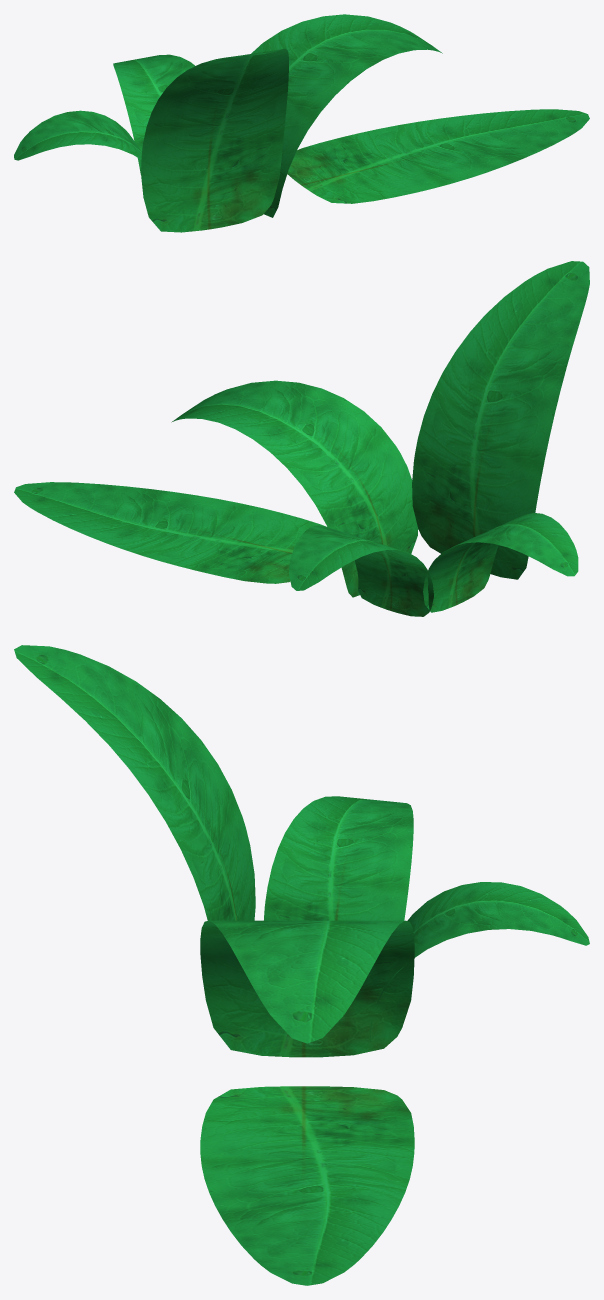
Rendered from Leaves.fbx.
The picture shows the model from 3 angles, top to bottom: view 1: azimuth 30°, elevation 25°; view 2: azimuth 150°, elevation 25°; view 3: azimuth 270°, elevation 25°; orthographic projection. The views are drawn at different scales.
Visible parts, largest first — view 1: planarTrimmedSurface3, planarTrimmedSurface1, planarTrimmedSurface2, planarTrimmedSurface5, planarTrimmedSurface4; view 2: planarTrimmedSurface3, planarTrimmedSurface2, planarTrimmedSurface1, planarTrimmedSurface4, planarTrimmedSurface5; view 3: planarTrimmedSurface1, planarTrimmedSurface2, planarTrimmedSurface3, planarTrimmedSurface5, planarTrimmedSurface4.
Part boxes in pixels (<box>): planarTrimmedSurface3: <box>141,48,288,232</box>; planarTrimmedSurface1: <box>287,109,589,203</box>; planarTrimmedSurface2: <box>251,14,442,217</box>; planarTrimmedSurface5: <box>14,110,141,160</box>; planarTrimmedSurface4: <box>113,54,194,175</box>; planarTrimmedSurface3: <box>412,261,589,579</box>; planarTrimmedSurface2: <box>171,380,418,597</box>; planarTrimmedSurface1: <box>14,482,326,583</box>; planarTrimmedSurface4: <box>289,525,433,616</box>; planarTrimmedSurface5: <box>423,512,578,612</box>; planarTrimmedSurface1: <box>200,1086,414,1285</box>; planarTrimmedSurface2: <box>200,920,414,1057</box>; planarTrimmedSurface3: <box>14,645,255,920</box>; planarTrimmedSurface5: <box>264,796,413,920</box>; planarTrimmedSurface4: <box>369,882,589,1042</box>.
Size of the model in its own units: 9.97 by 4.27 by 6.39.
